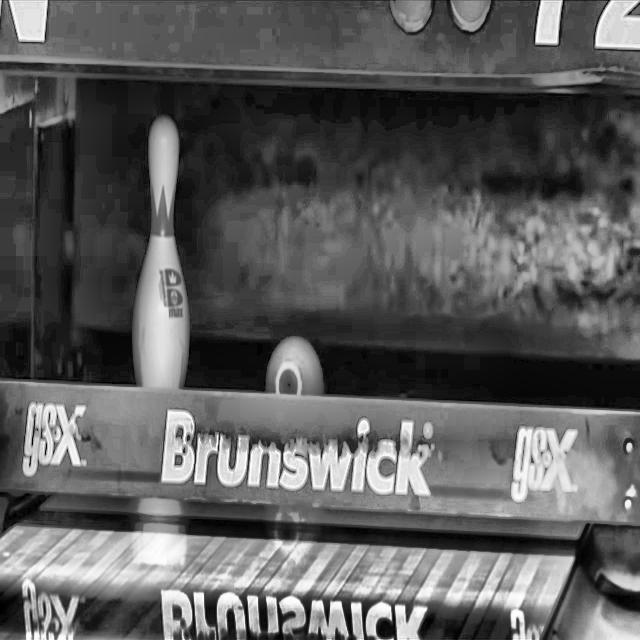bowling-pins: (132, 116, 188, 387)
sweep board: (0, 381, 640, 523)
